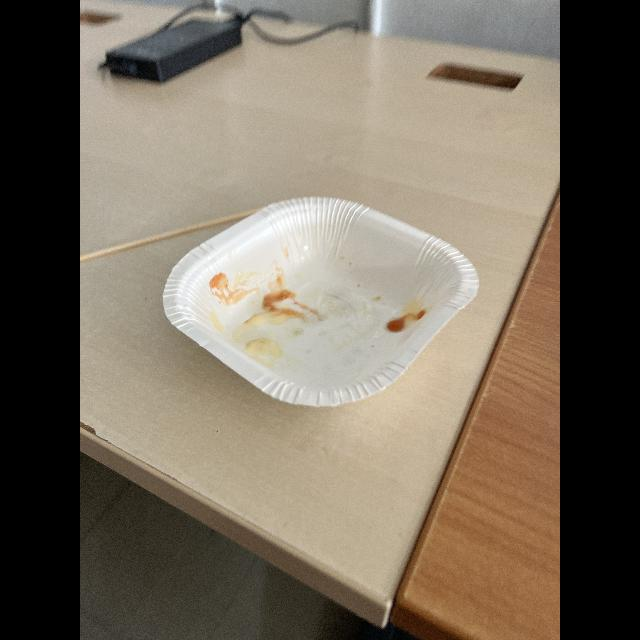cardboard_bowl: (160, 184, 488, 416)
stick: (80, 206, 266, 268)
